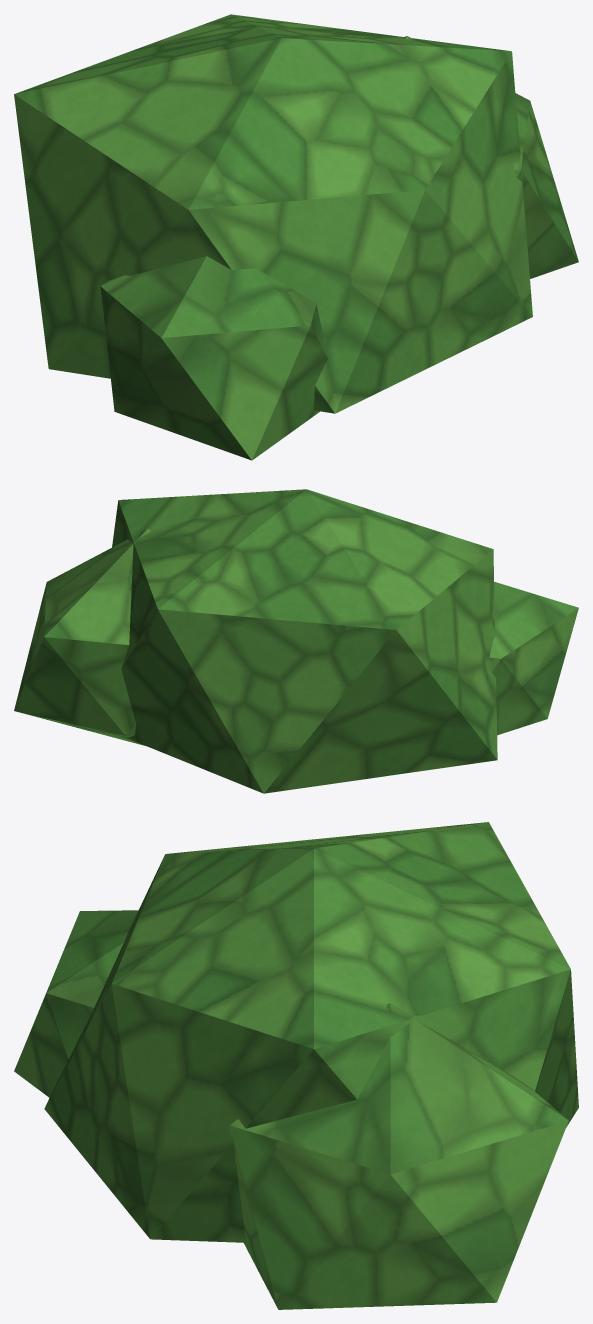
Rendered from Bush.fbx.
3 views of the same model, one above another, from view 1: azimuth 30°, elevation 25°; view 2: azimuth 150°, elevation 25°; view 3: azimuth 270°, elevation 25° (orthographic). The views are drawn at different scales.
Parts seen in each view (by area): view 1: Bush; view 2: Bush; view 3: Bush.
Part boxes in pixels (left/top/right/bottom): Bush: left=14, top=14, right=578, bottom=460; Bush: left=14, top=489, right=578, bottom=793; Bush: left=14, top=822, right=578, bottom=1309.
Size of the model in its own units: 1.03 by 0.6271 by 0.8869.
Materials: 1 (1 with a texture image).
